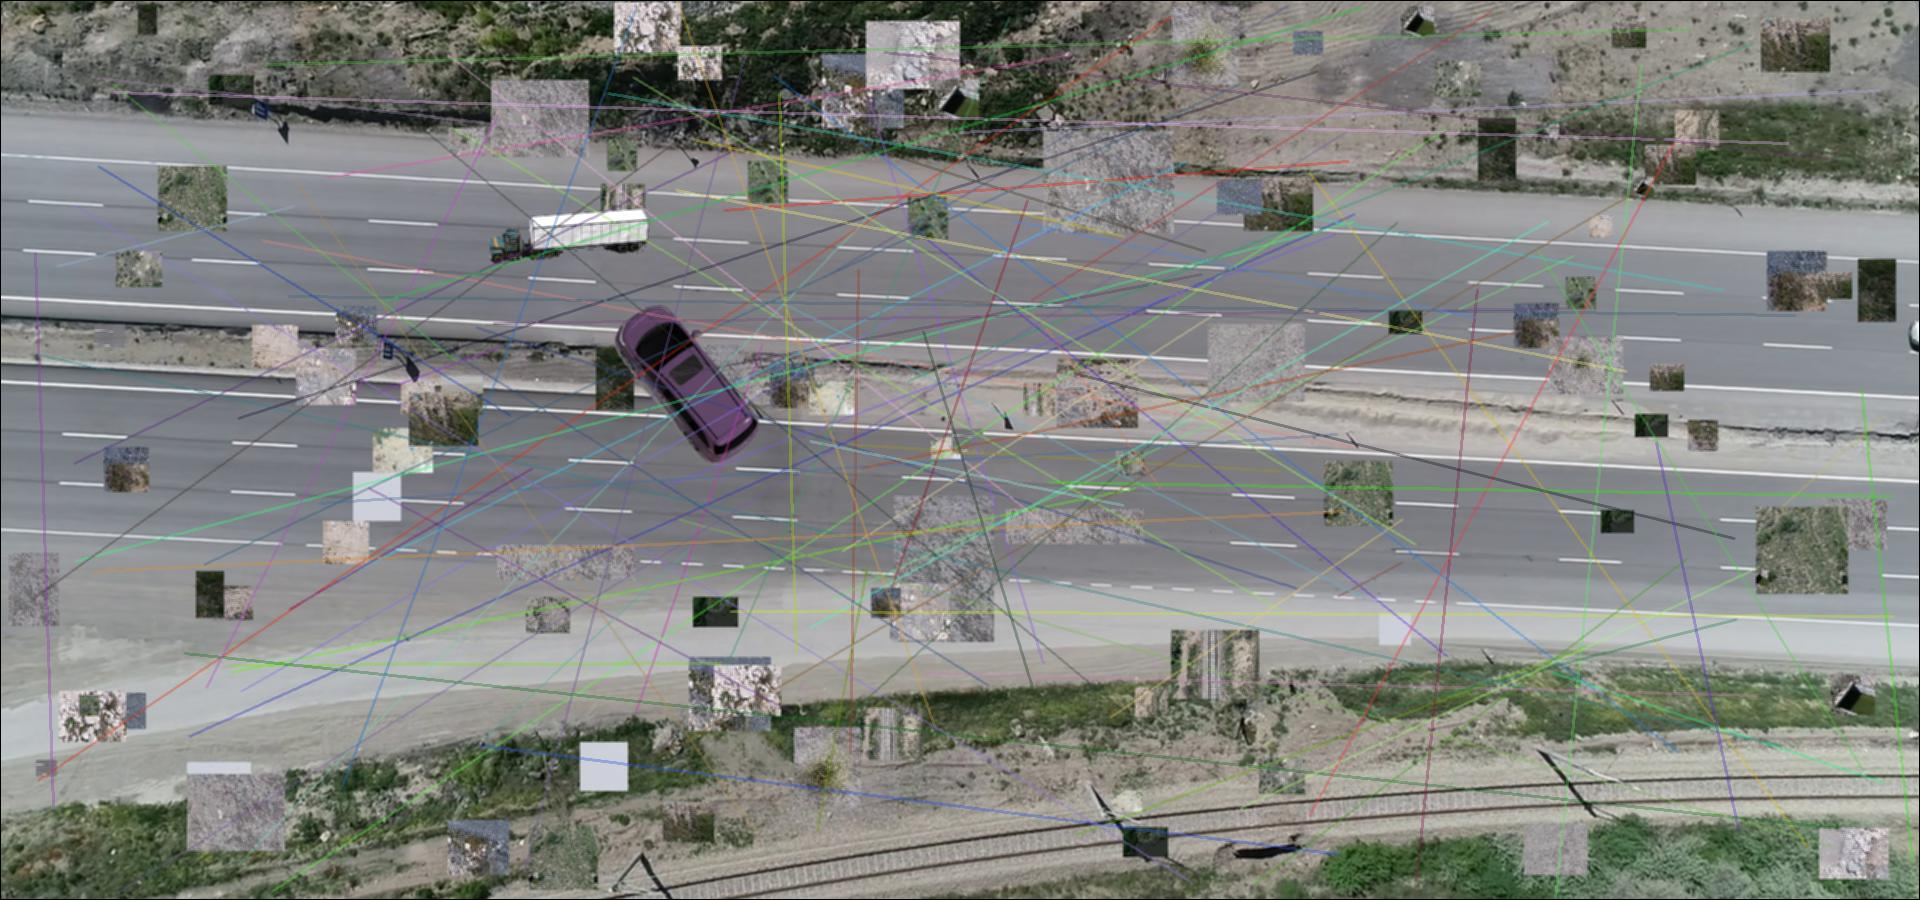arac: (615, 302, 760, 465), (490, 204, 649, 263)
